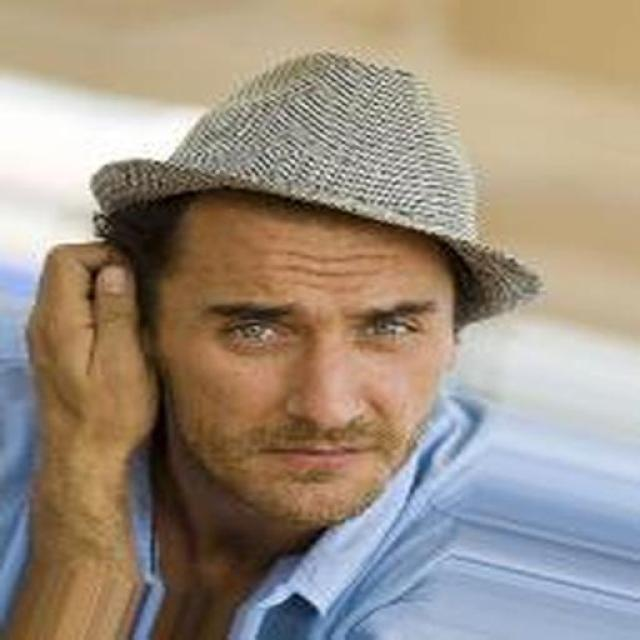bareface: (95, 34, 532, 561)
